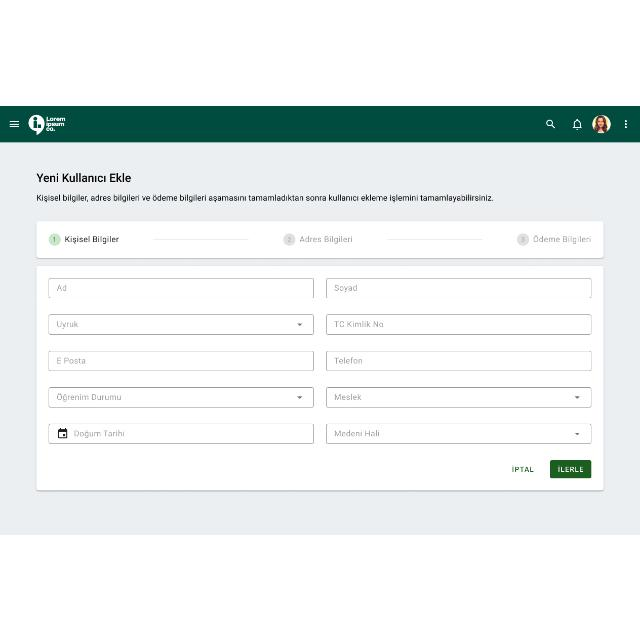QLabel: (36, 193, 494, 203), (35, 171, 133, 183), (532, 232, 592, 244), (62, 234, 120, 244), (299, 234, 353, 242), (508, 464, 536, 472), (556, 465, 584, 473)
VAppBar: (0, 105, 640, 141)
VAvatar: (592, 114, 612, 132)
VBtn: (550, 459, 592, 479)
VCombobox: (48, 313, 314, 335), (48, 386, 314, 408), (326, 385, 592, 407), (326, 422, 592, 444)
VDivider: (383, 237, 483, 241), (152, 237, 248, 241)
VIcon: (572, 118, 582, 128), (546, 119, 556, 128), (10, 120, 20, 128), (624, 119, 628, 127)
VImg: (25, 114, 67, 134)
VInlineDatepicker: (48, 422, 314, 444)
VStepper: (32, 218, 608, 494)
VTextField: (47, 349, 315, 371), (48, 276, 314, 298), (326, 276, 592, 298), (326, 313, 592, 335), (326, 349, 592, 371)
